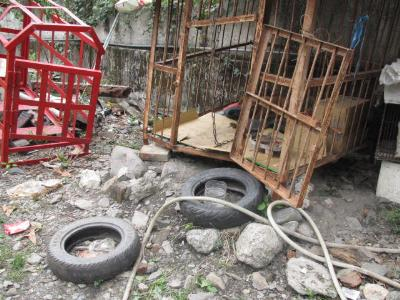tire: (46, 216, 142, 286), (176, 166, 267, 229)
